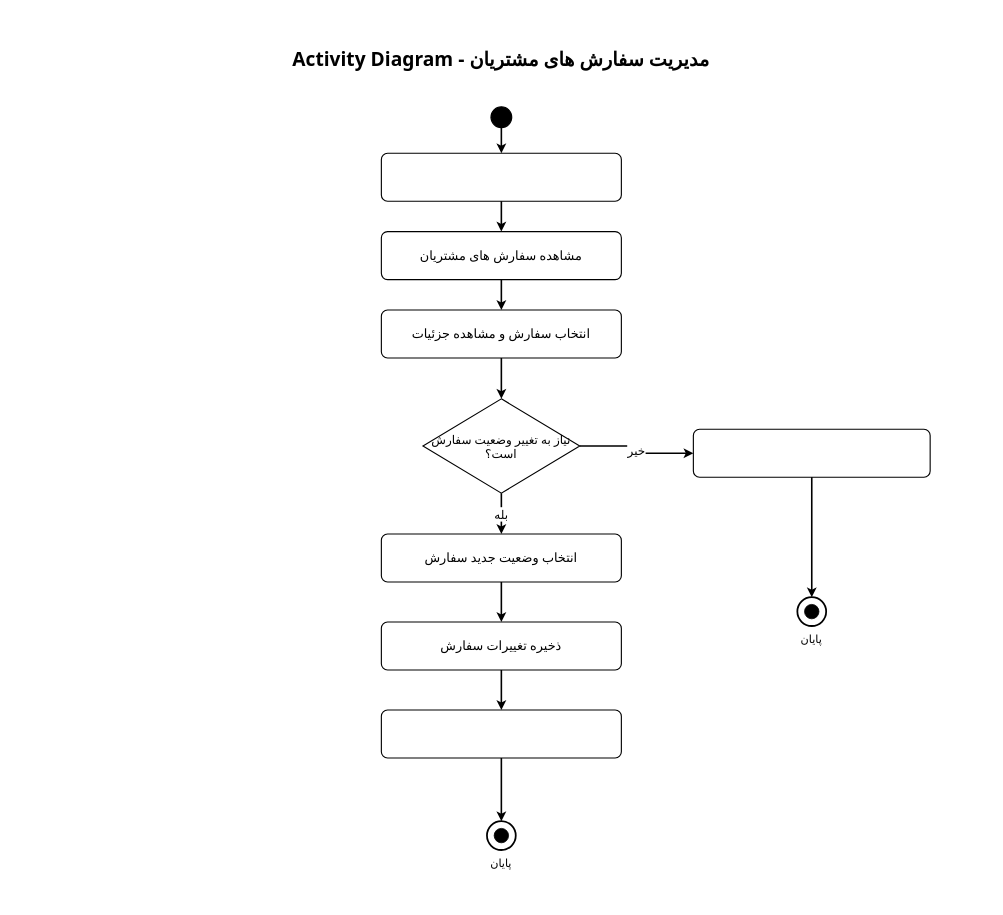
Some shapes in this 1003 by 915 pixel diagram are drawn without their labels. The centre of each missing label's shape, as x and y in pixels:
"بازگشت به فهرست سفارش ها" goes at point 811,452.
"نمایش نتیجه مدیریت سفارش" goes at point 501,733.
"ورود مدیر به پنل مدیریت" goes at point 501,176.
